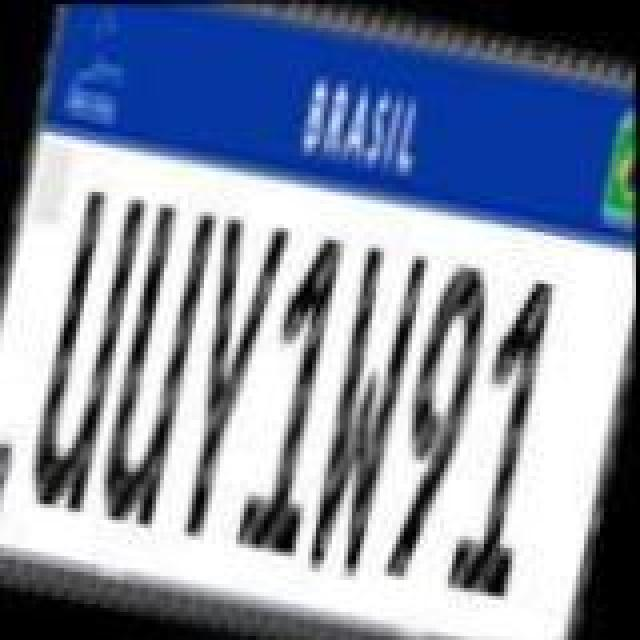1: (440, 260, 580, 600), (232, 226, 372, 562)
9: (368, 252, 508, 588)
U: (88, 192, 224, 532), (16, 180, 152, 516)
W: (296, 236, 436, 584)
Y: (158, 210, 298, 550)
